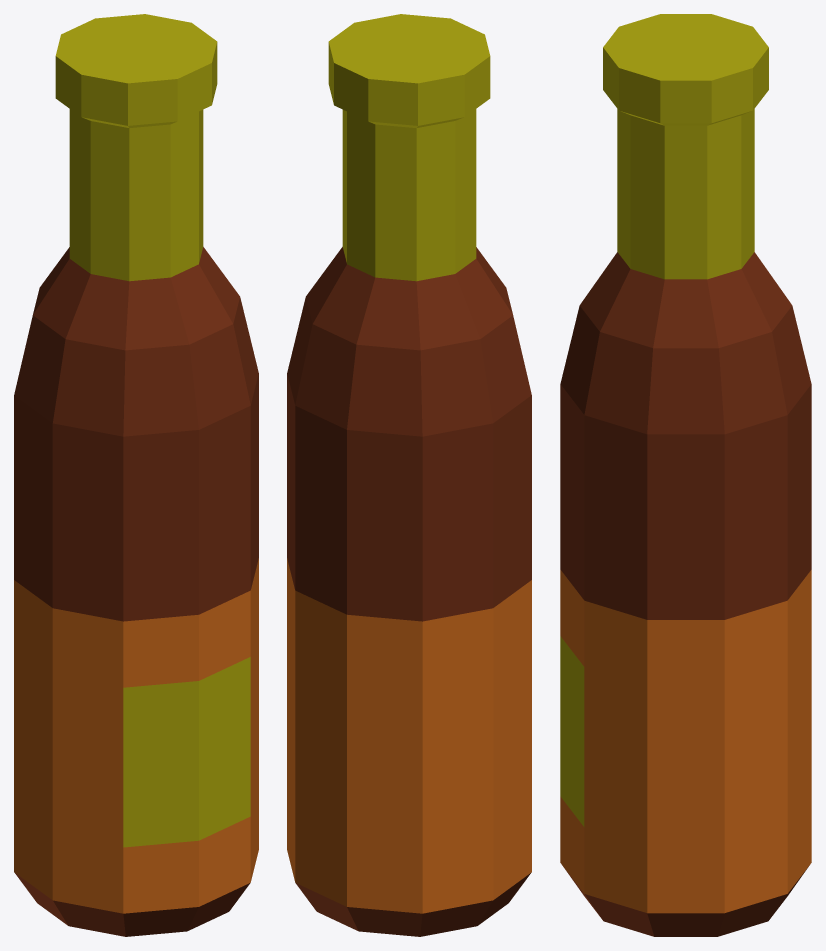
The model's file is Annatto Sauce.fbx.
The picture shows the model from 3 angles, left to right: view 1: azimuth 30°, elevation 25°; view 2: azimuth 150°, elevation 25°; view 3: azimuth 270°, elevation 25°; orthographic projection.
Parts seen in each view (by area): view 1: Annatto sauce; view 2: Annatto sauce; view 3: Annatto sauce.
Part boxes in pixels (left/top/right/bottom): Annatto sauce: left=14, top=14, right=258, bottom=936; Annatto sauce: left=287, top=14, right=531, bottom=936; Annatto sauce: left=560, top=14, right=811, bottom=936.
Bounding box in the file's own units: 18.55 × 72.73 × 19.5.
